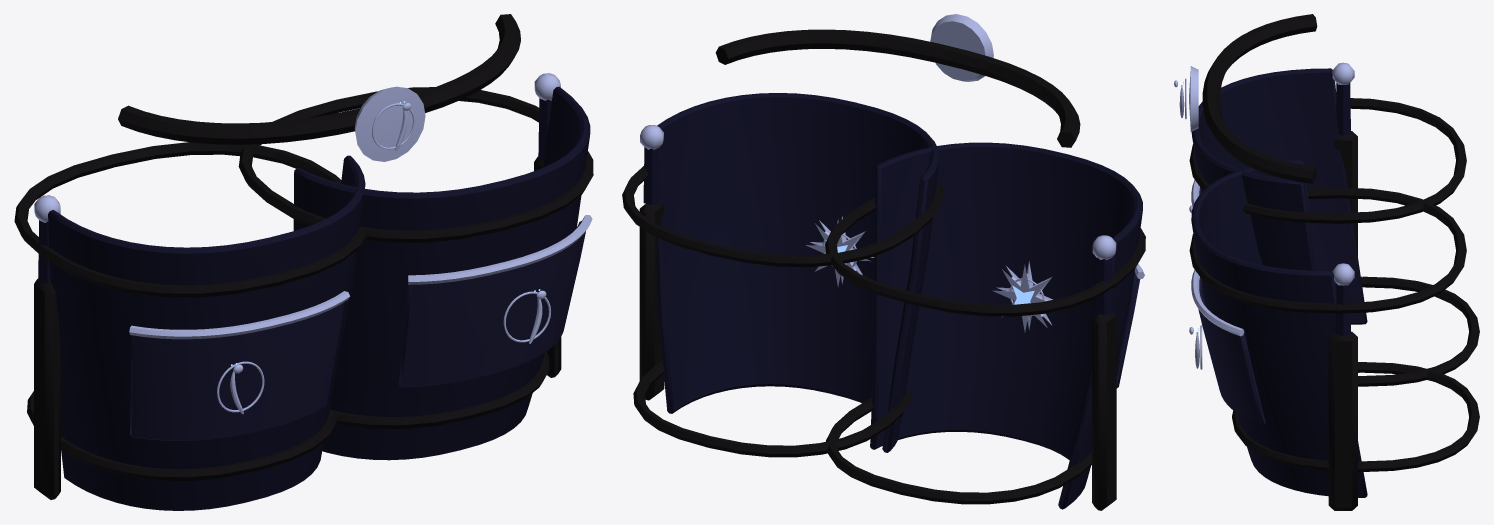
Rendered from asc_starless_stalker_leggings.glb.
3 views of the same model, side by side, from view 1: azimuth 30°, elevation 25°; view 2: azimuth 150°, elevation 25°; view 3: azimuth 270°, elevation 25° (orthographic). The views are drawn at different scales.
Parts seen in each view (by area): view 1: AT_thigh_R, AT_thigh_L, asc_starless_stalker_leggings; view 2: AT_thigh_L, AT_thigh_R, asc_starless_stalker_leggings; view 3: AT_thigh_L, AT_thigh_R, asc_starless_stalker_leggings.
Boxes of the visible parts, x1,y1,x2,y2 form: AT_thigh_R: (14, 142, 365, 510); AT_thigh_L: (238, 73, 593, 460); asc_starless_stalker_leggings: (118, 14, 520, 161); AT_thigh_L: (622, 93, 942, 457); AT_thigh_R: (825, 142, 1145, 510); asc_starless_stalker_leggings: (715, 14, 1080, 332); AT_thigh_L: (1189, 159, 1479, 510); AT_thigh_R: (1189, 62, 1479, 386); asc_starless_stalker_leggings: (1174, 14, 1317, 183).
Bounding box in the file's own units: 0.5071 × 0.3851 × 0.3121.
